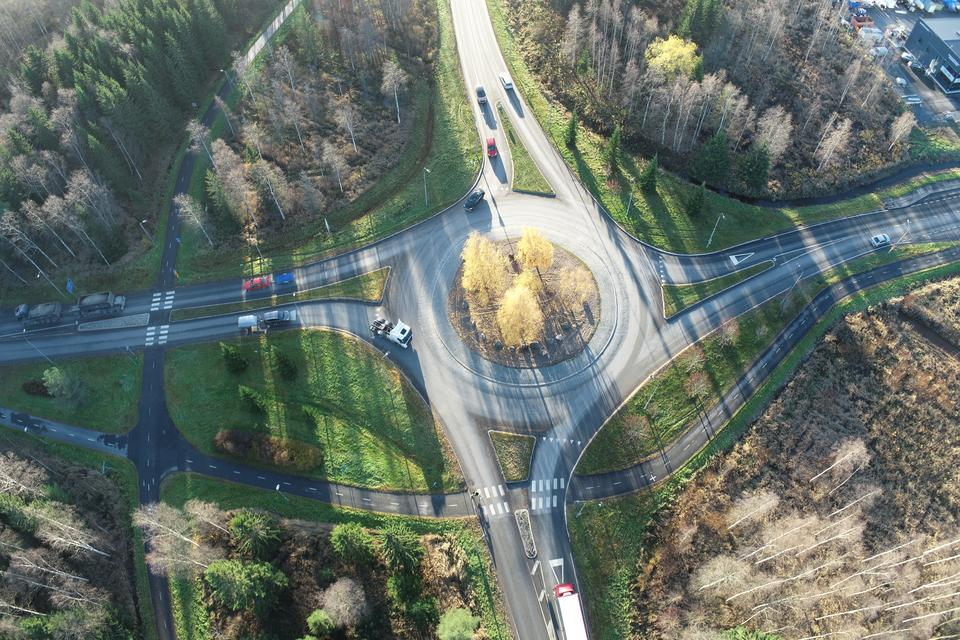intersection: (434, 464, 605, 543), (116, 268, 203, 386)
roundabout: (309, 142, 730, 456)
